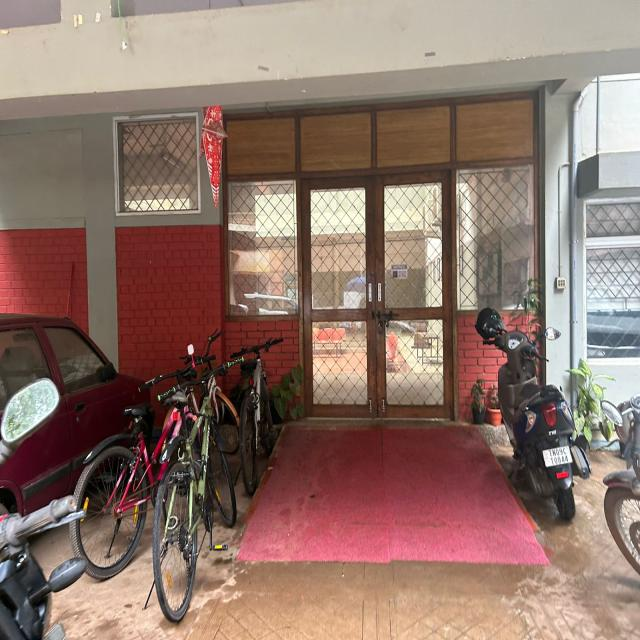Door ahead at: (307, 180, 445, 415)
bicycle ahead at: (158, 348, 244, 622), (78, 351, 167, 582)
motorcycle ahead at: (471, 310, 596, 530)
